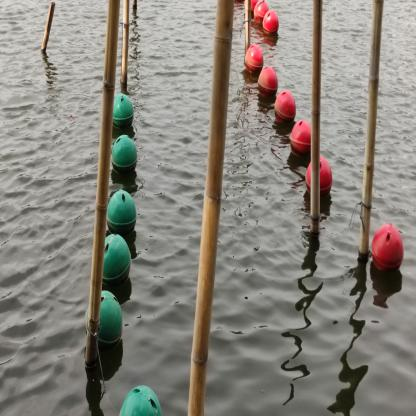green_buoy: (85, 290, 122, 350), (102, 233, 132, 286), (117, 384, 166, 415), (106, 189, 138, 236), (110, 133, 140, 175), (110, 92, 136, 131)
red_buoy: (370, 223, 404, 273), (305, 156, 334, 199), (289, 119, 313, 157), (273, 89, 297, 124), (257, 66, 279, 99), (245, 43, 264, 76), (262, 9, 280, 37), (254, 0, 270, 23), (244, 0, 260, 18)
